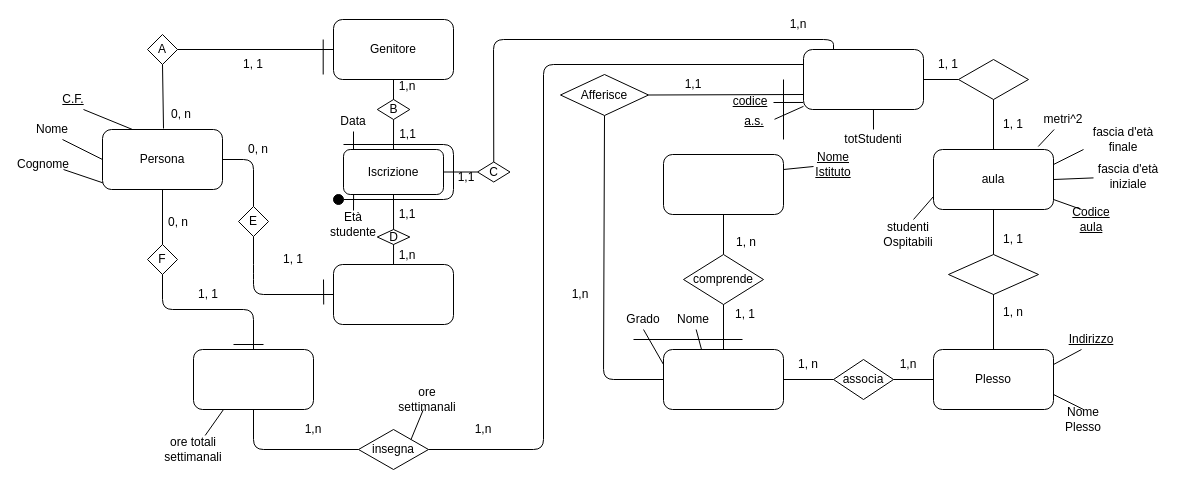
Image size: 1180x487. Some labels were removed from this diagram. Here are the shapes that lost their labels. From the top down, the centre of each, then its label:
pixel 863 79: Classe
pixel 993 79: composta
pixel 723 184: Isituto Comprensivo
pixel 393 294: Studente
pixel 993 274: appartiene
pixel 253 379: Insegnante
pixel 723 379: Scuola
